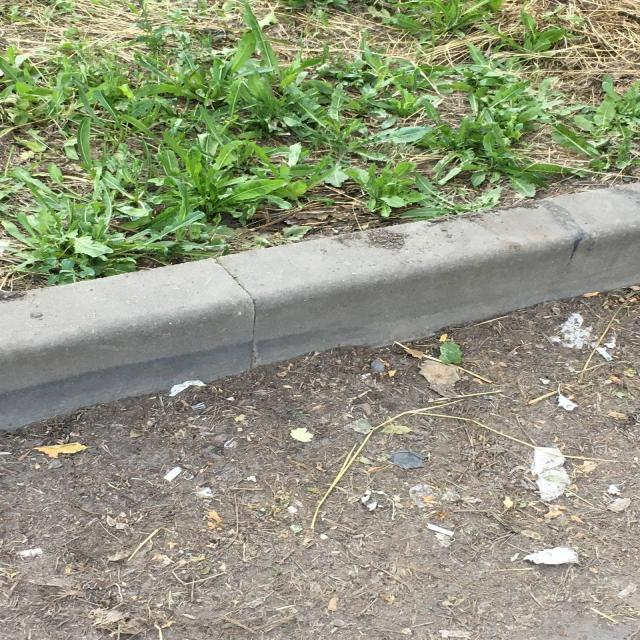bump: (1, 185, 639, 430)
